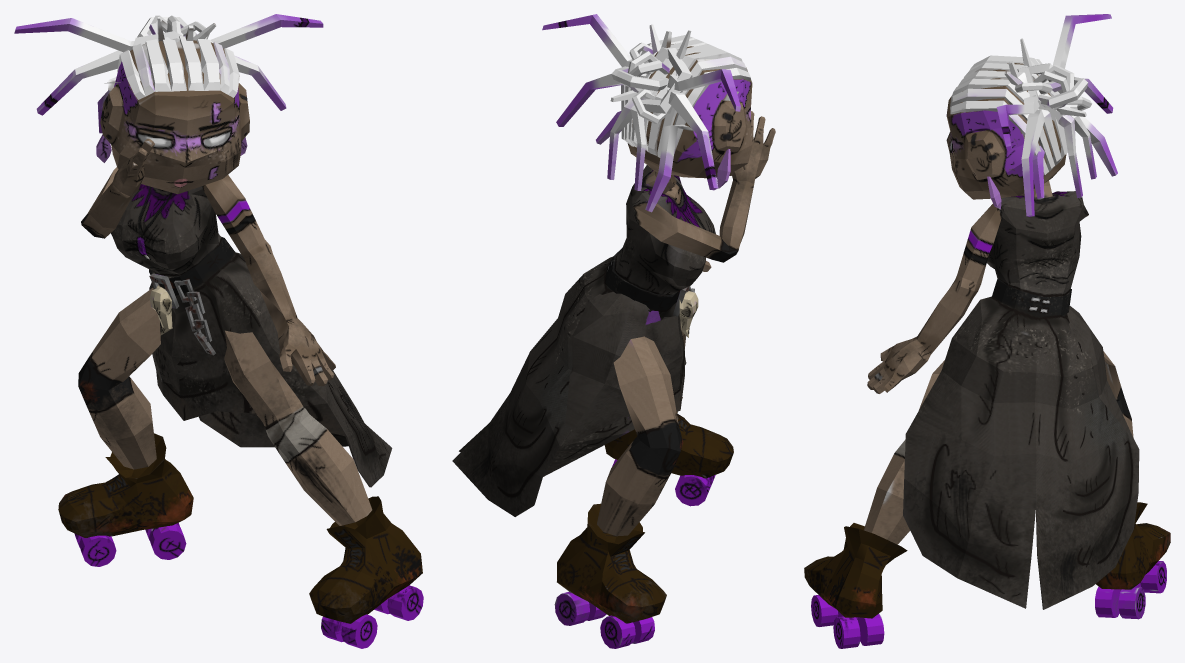
The model's file is bruja_000068.obj.
3 views of the same model, side by side, from view 1: azimuth 30°, elevation 25°; view 2: azimuth 150°, elevation 25°; view 3: azimuth 270°, elevation 25° (orthographic). The views are drawn at different scales.
Visible parts, largest first — view 1: Bruja_Plane.001; view 2: Bruja_Plane.001; view 3: Bruja_Plane.001.
Part boxes in pixels (<box>): Bruja_Plane.001: <box>14,14,423,648</box>; Bruja_Plane.001: <box>452,14,775,648</box>; Bruja_Plane.001: <box>804,14,1170,648</box>.
Size of the model in its own units: 9.18 by 15.42 by 9.25.
